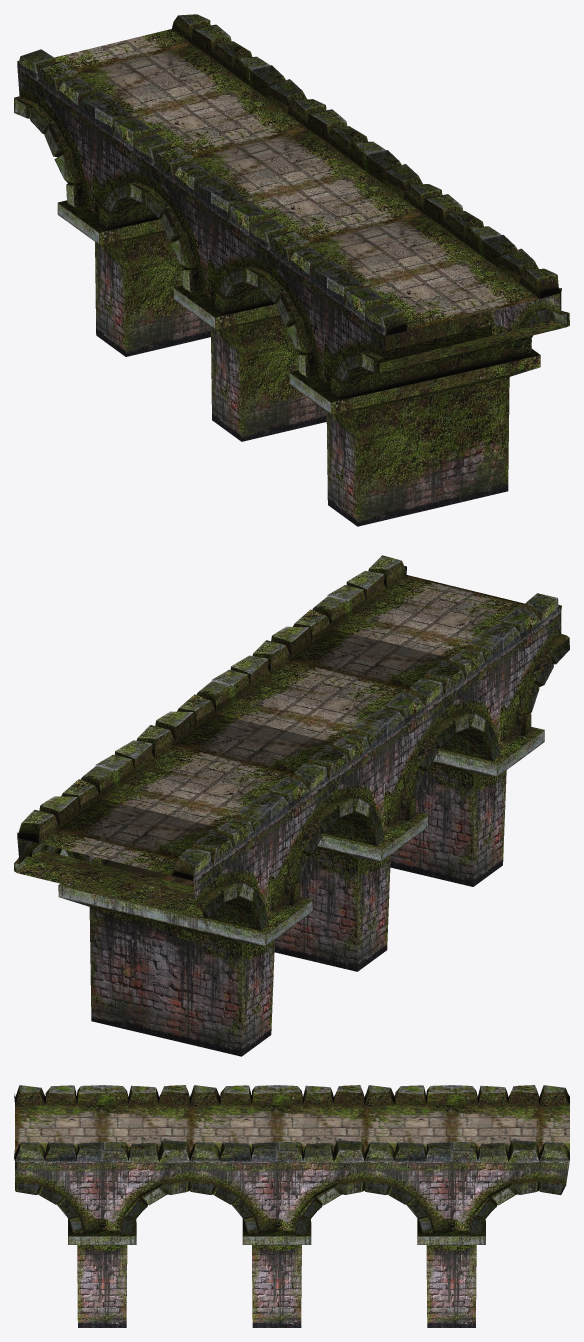
Rendered from bridge.glb.
The picture shows the model from 3 angles, top to bottom: view 1: azimuth 30°, elevation 25°; view 2: azimuth 150°, elevation 25°; view 3: azimuth 270°, elevation 25°; orthographic projection. The views are drawn at different scales.
Visible parts, largest first — view 1: Object_3; view 2: Object_3; view 3: Object_3.
Part boxes in pixels (x1,y1,x2,y2): Object_3: [14, 14, 569, 526]; Object_3: [14, 555, 569, 1056]; Object_3: [14, 1085, 569, 1327].
Bounding box in the file's own units: 5.48 × 6.1 × 16.72.
1 material, 1 textured.
